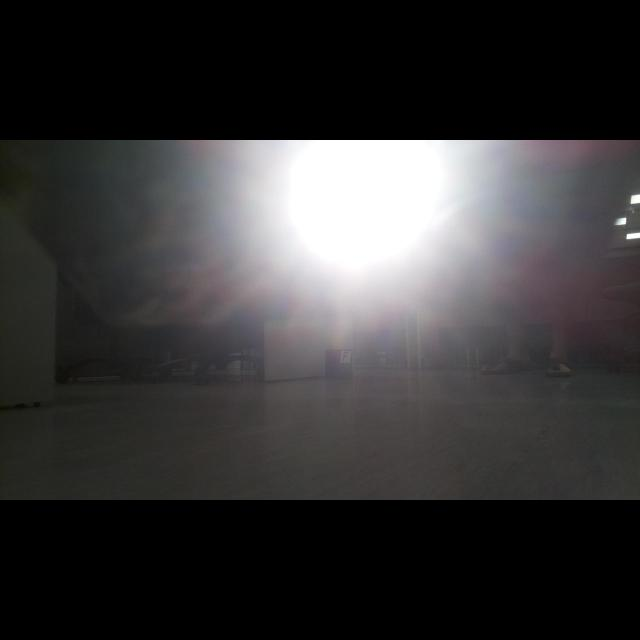F: (342, 352, 349, 362)
